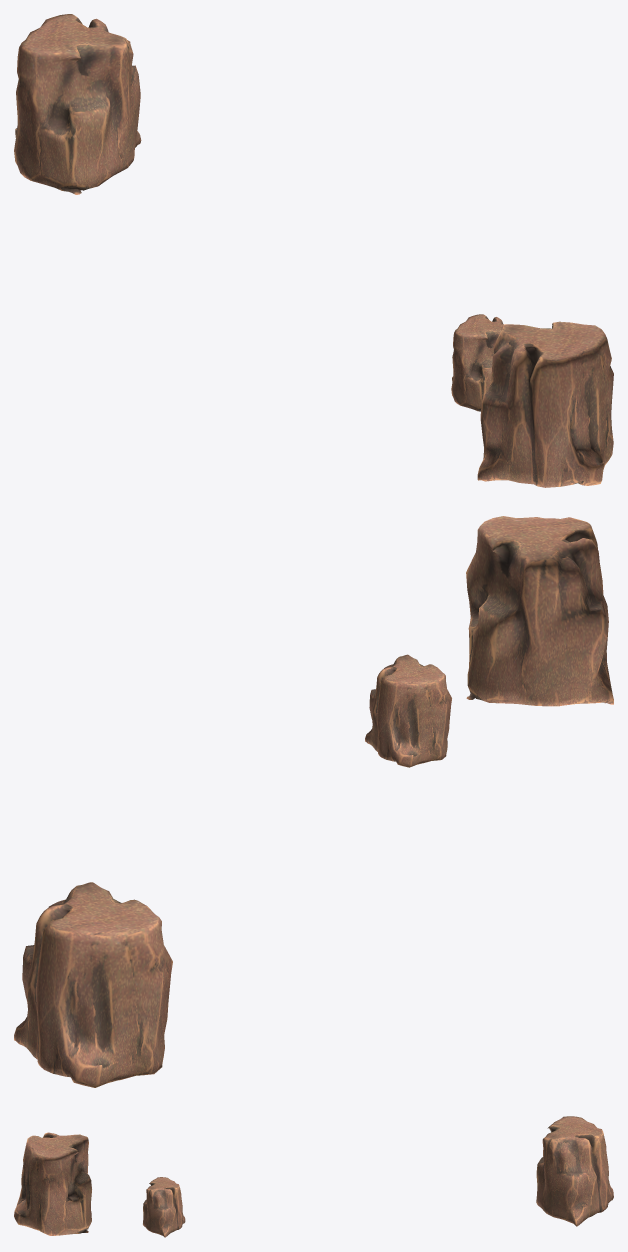
The model's file is Rock_02_Unity.FBX.
3 renders of one model, top to bottom at view 1: azimuth 30°, elevation 25°; view 2: azimuth 150°, elevation 25°; view 3: azimuth 270°, elevation 25°, orthographic. The views are drawn at different scales.
Visible parts, largest first — view 1: Rock_02; view 2: Rock_02; view 3: Rock_02.
Part boxes in pixels (left/top/right/bottom): Rock_02: left=14, top=14, right=613, bottom=487; Rock_02: left=14, top=516, right=613, bottom=1087; Rock_02: left=14, top=1116, right=613, bottom=1237.
Size of the model in its own units: 488 by 377 by 2570.
1 material, 1 textured.
